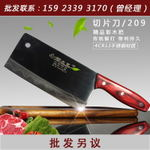knief: (8, 34, 149, 112)
